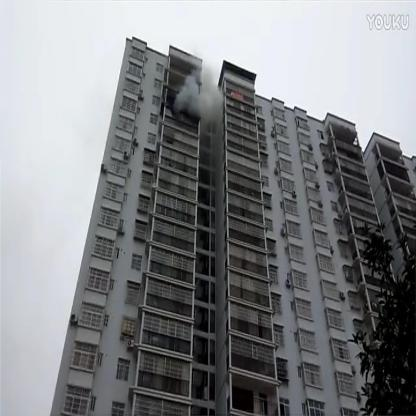smoke: (172, 67, 225, 123)
